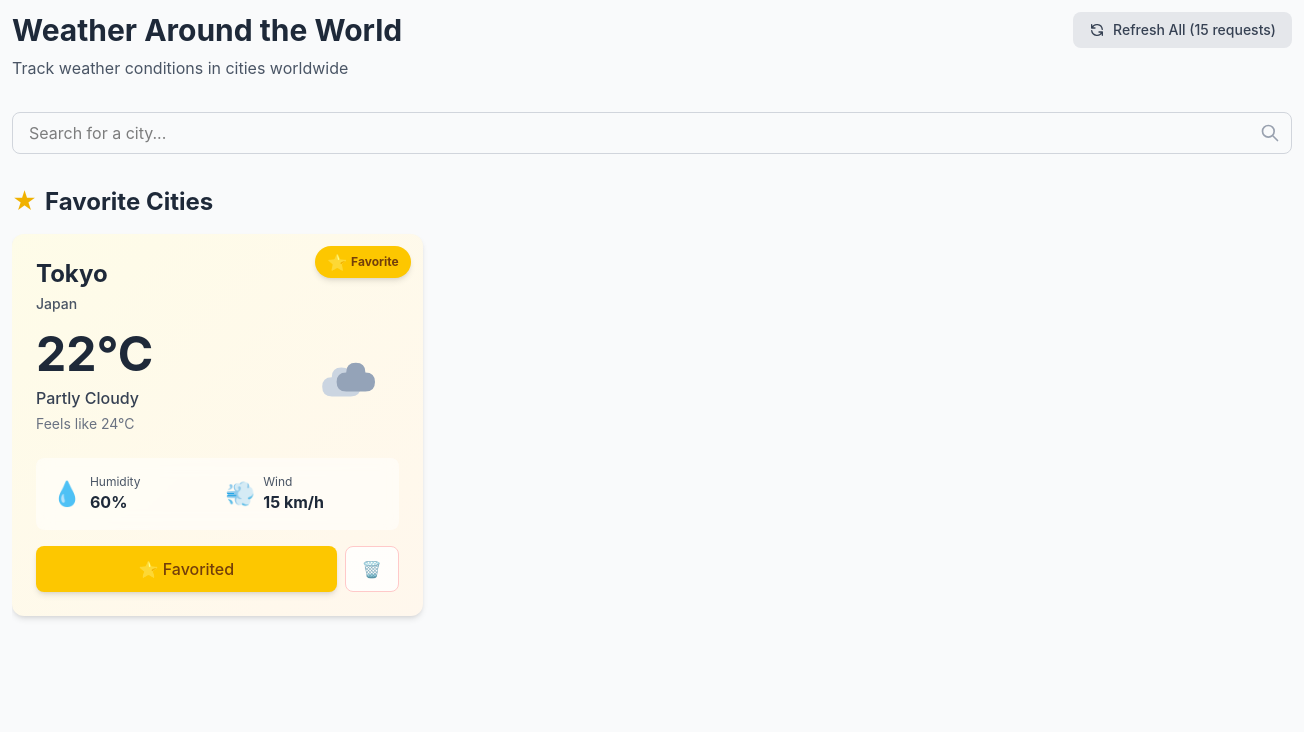
Test: Favorites Flow Integration › should toggle favorite status correctly
// Click to unfavorite
Click the button "⭐ Favorited" at (186, 569), box [36,546,337,592]
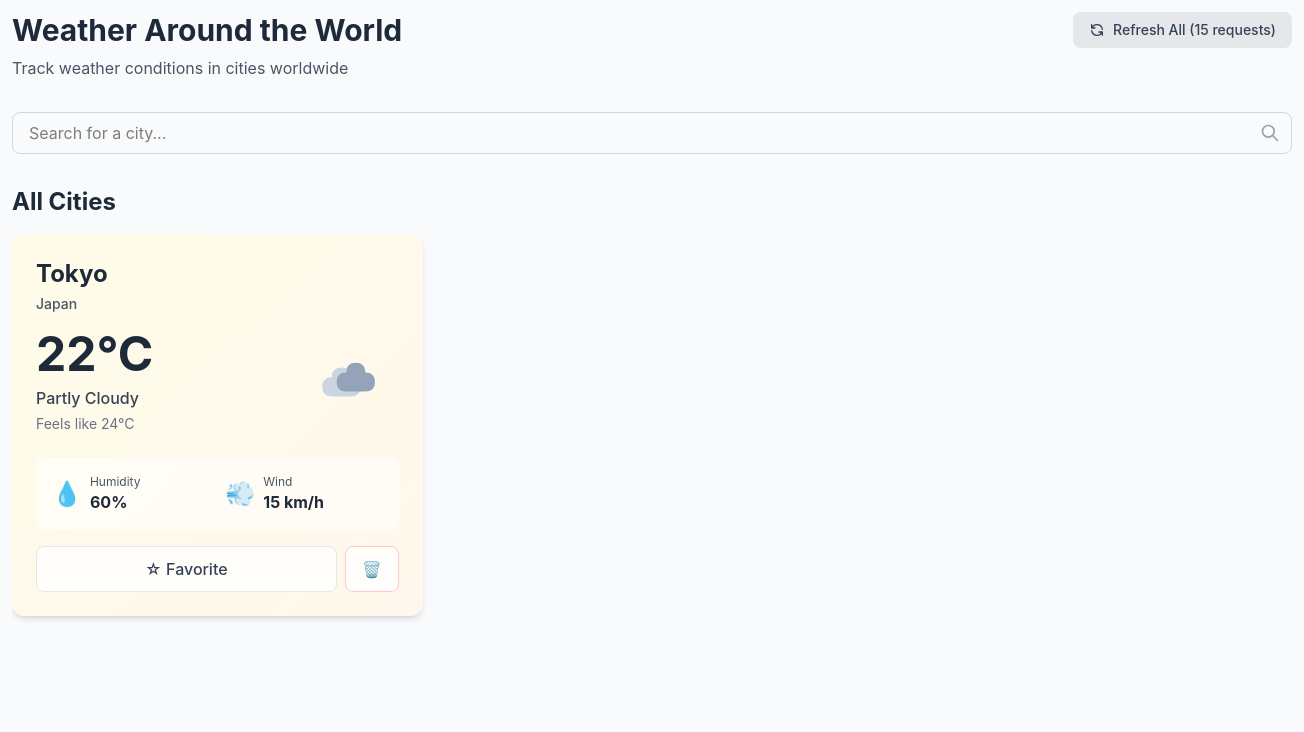
Result: the button "☆ Favorite" is shown at [36,546,337,592]
